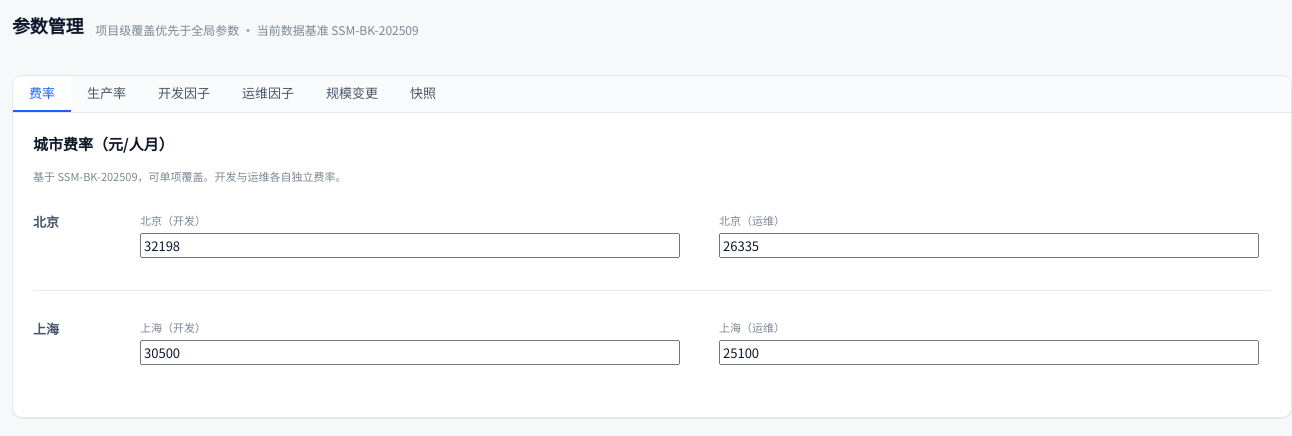
Test: ParamManager — 城市费率 ops 列 + 运维生产率 ops 表 (GAP-D) › productivity 面板同时渲染 productivity_dev 和 productivity_ops 两张表
Click the tab "生产率" at {"x": 106, "y": 94}, box [71, 76, 142, 112]
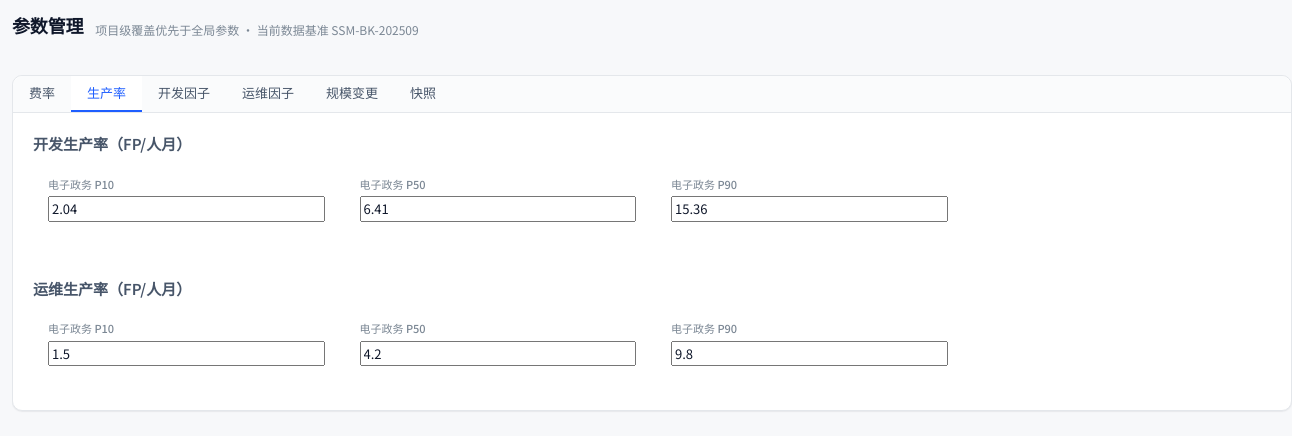
Expected: the text "开发生产率" is shown, [33, 133, 191, 154]
Expected: the text "运维生产率" is shown, [33, 278, 191, 298]
